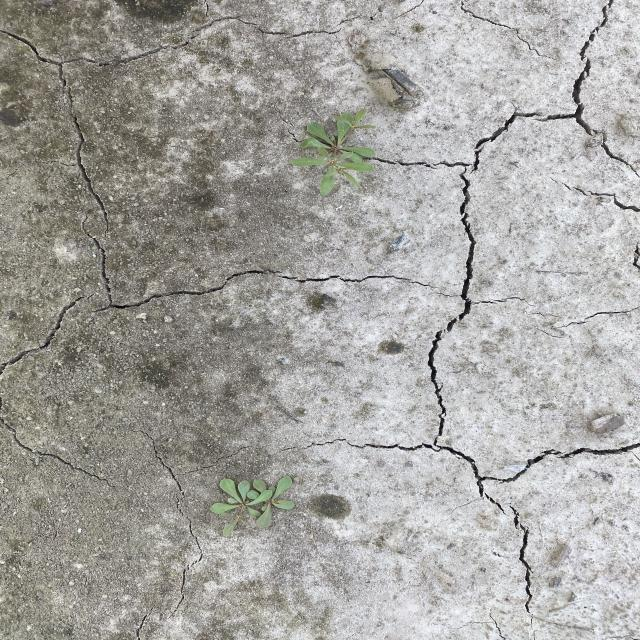Carpetweed: (287, 106, 379, 196), (208, 473, 298, 538)
